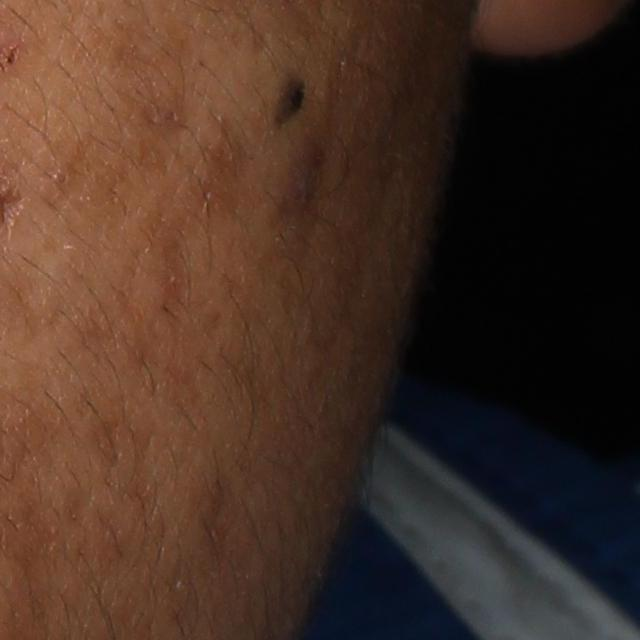nevus: (271, 64, 311, 126)
